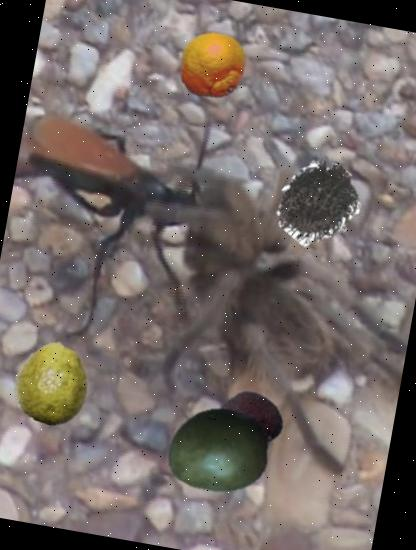Guava: (4, 335, 100, 431)
Mandarine: (173, 26, 253, 106)
Mango: (160, 390, 280, 510)
Rambutan: (268, 153, 368, 253)
Salak: (208, 381, 287, 460)
